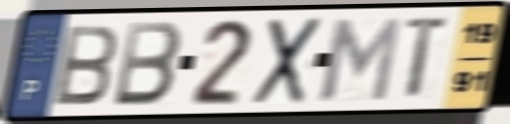2: (189, 16, 256, 108)
B: (110, 19, 185, 109), (52, 22, 122, 108)
M: (318, 14, 405, 104)
T: (403, 13, 453, 104)
X: (248, 14, 326, 109)
